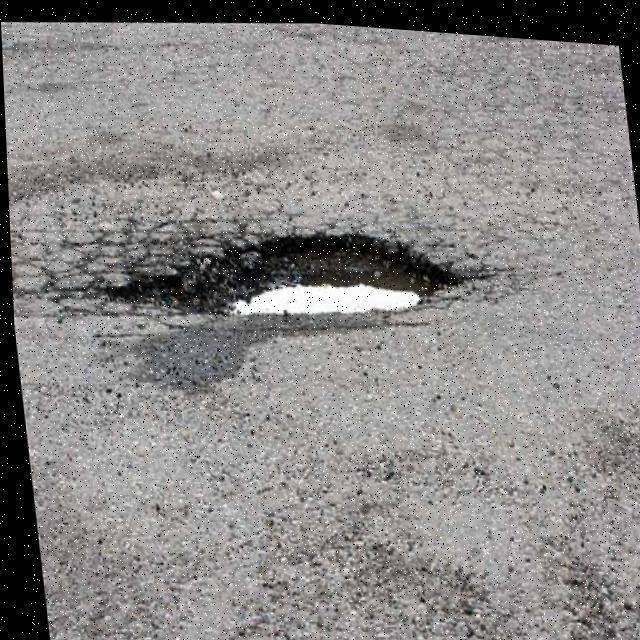Pothole: (104, 232, 462, 313)
